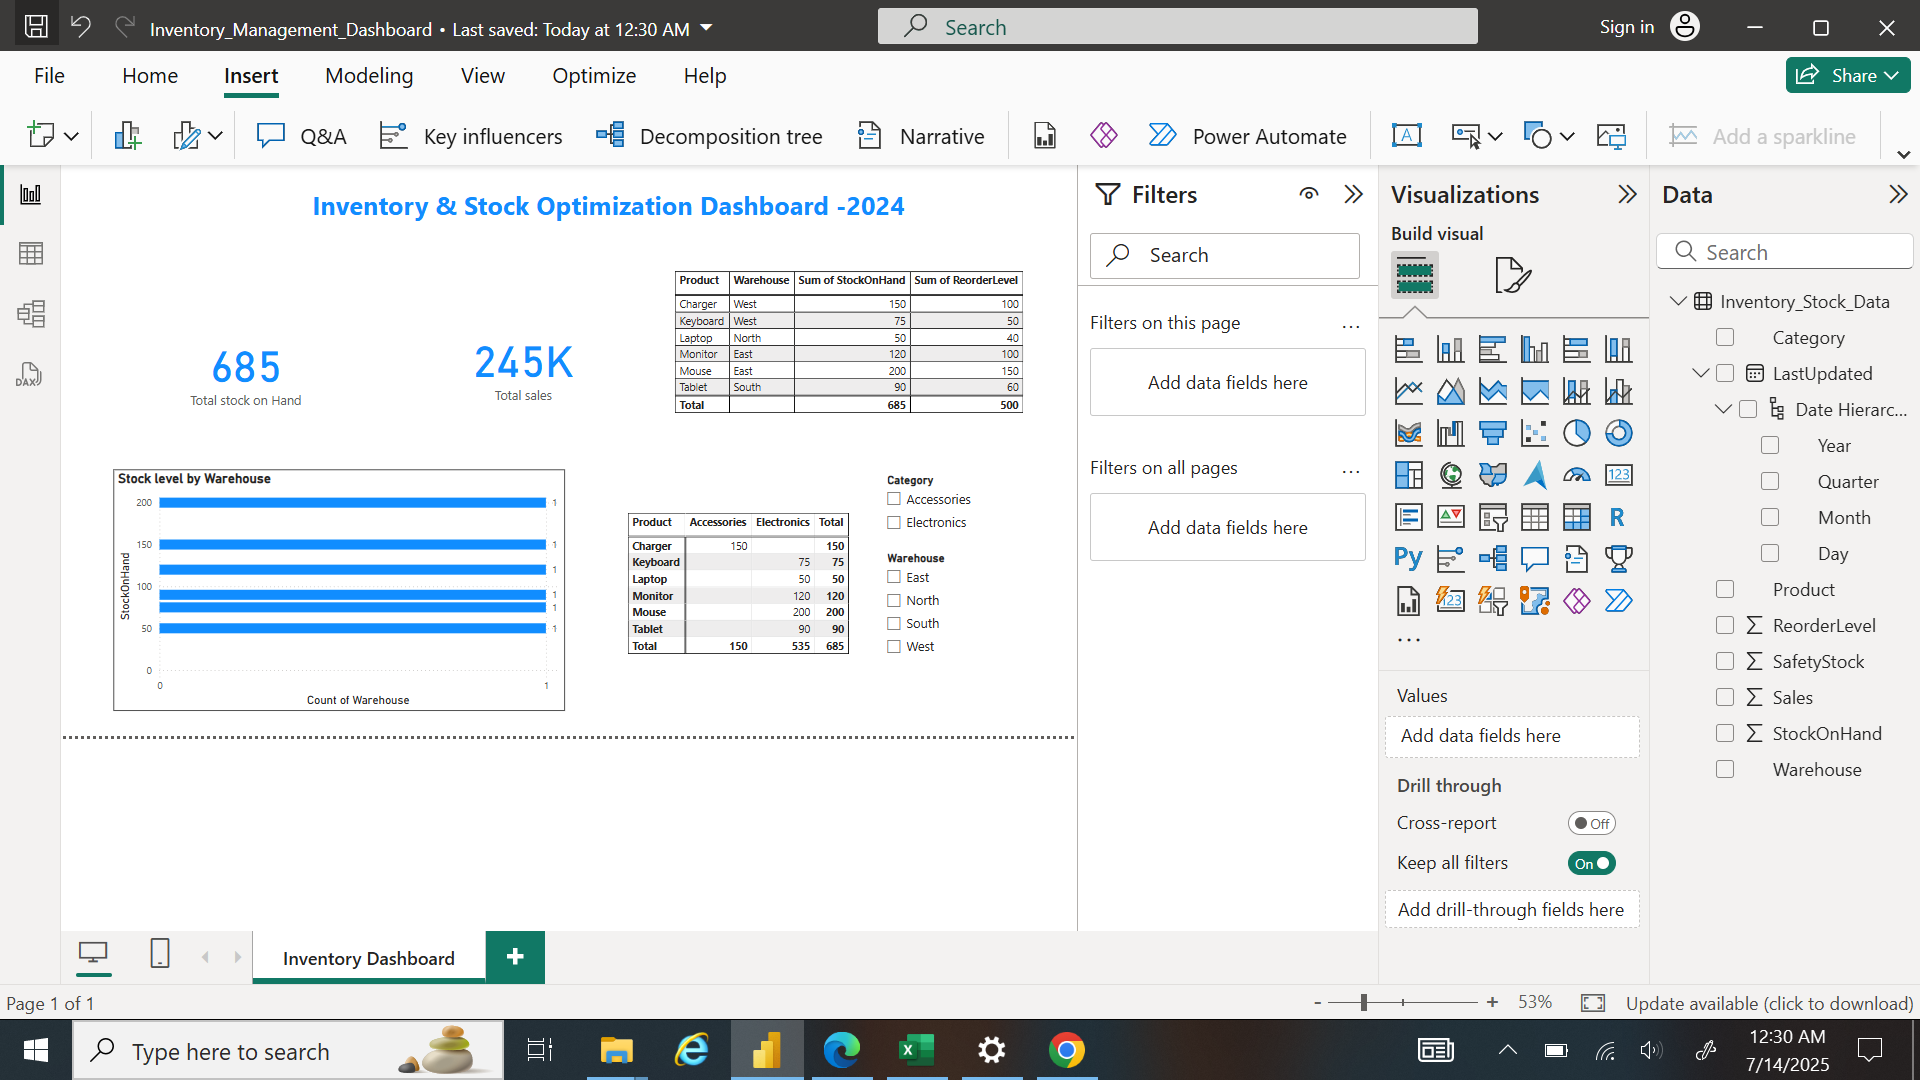

Layout of this report page (visuals, bound fields, positions):
{"tool":"powerbi","page":{"name":"Inventory Dashboard","canvas":[1280,720],"ordinal":0},"visuals":[{"type":"card","fields":{"Values":["Sum(Inventory_Stock_Data.StockOnHand)"]},"box":[32.1,183.3,400.6,149.3],"z":0},{"type":"card","fields":{"Values":["Sum(Inventory_Stock_Data.Sales)"]},"box":[455.4,183.3,253.2,136.1],"z":1000},{"type":"barChart","title":"Stock level by Warehouse","fields":{"Category":["Inventory_Stock_Data.StockOnHand"],"Y":["CountNonNull(Inventory_Stock_Data.Warehouse)"]},"box":[66.1,383.6,568.8,304.3],"z":2000},{"type":"pivotTable","fields":{"Columns":["Inventory_Stock_Data.Category"],"Rows":["Inventory_Stock_Data.Product"],"Values":["Sum(Inventory_Stock_Data.StockOnHand)"]},"box":[661.4,383.6,319.4,255.1],"z":3000},{"type":"tableEx","fields":{"Values":["Inventory_Stock_Data.Product","Inventory_Stock_Data.Warehouse","Sum(Inventory_Stock_Data.StockOnHand)","Sum(Inventory_Stock_Data.ReorderLevel)"]},"box":[767.2,128.5,474.3,190.9],"z":4000},{"type":"slicer","fields":{"Values":["Inventory_Stock_Data.Category"]},"box":[1028,383.6,192.8,98.3],"z":5000},{"type":"slicer","fields":{"Values":["Inventory_Stock_Data.Warehouse"]},"box":[1028,481.9,251.3,238.1],"z":6000},{"type":"textbox","box":[100.2,22.7,1179.2,90.7],"z":6001}]}

Visuals, with their boxes on the page's 1280x720 design canvas (x1, y1, x2, y2). These are canvas units, not pixel positions in the 1920x1080 screenshot, which may show the page scaled, cropped or inside an application window:
card - Sum(Inventory_Stock_Data.StockOnHand): <box>32,183,433,333</box>
card - Sum(Inventory_Stock_Data.Sales): <box>455,183,709,319</box>
"Stock level by Warehouse" barChart: <box>66,384,635,688</box>
pivotTable - Inventory_Stock_Data.Category x Inventory_Stock_Data.Product: <box>661,384,981,639</box>
tableEx - Inventory_Stock_Data.Product x Inventory_Stock_Data.Warehouse: <box>767,128,1242,319</box>
slicer - Inventory_Stock_Data.Category: <box>1028,384,1221,482</box>
slicer - Inventory_Stock_Data.Warehouse: <box>1028,482,1279,720</box>
textbox: <box>100,23,1279,113</box>
